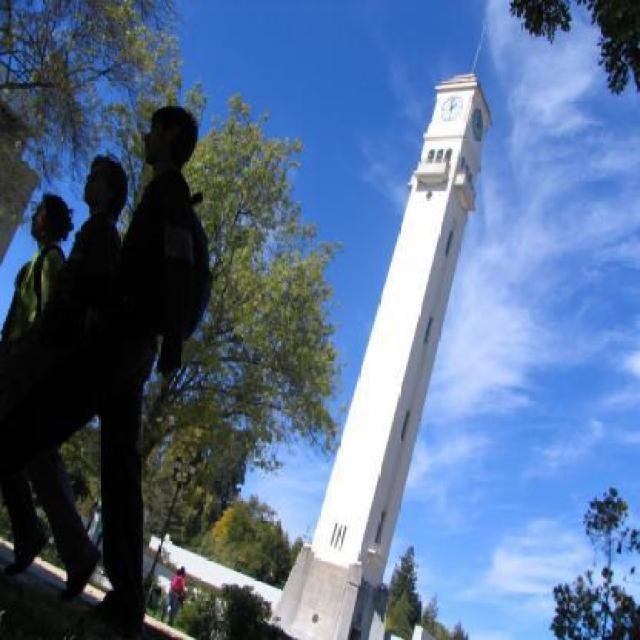Person: (73, 106, 207, 640), (4, 141, 134, 605), (0, 187, 77, 576), (167, 565, 185, 627)
